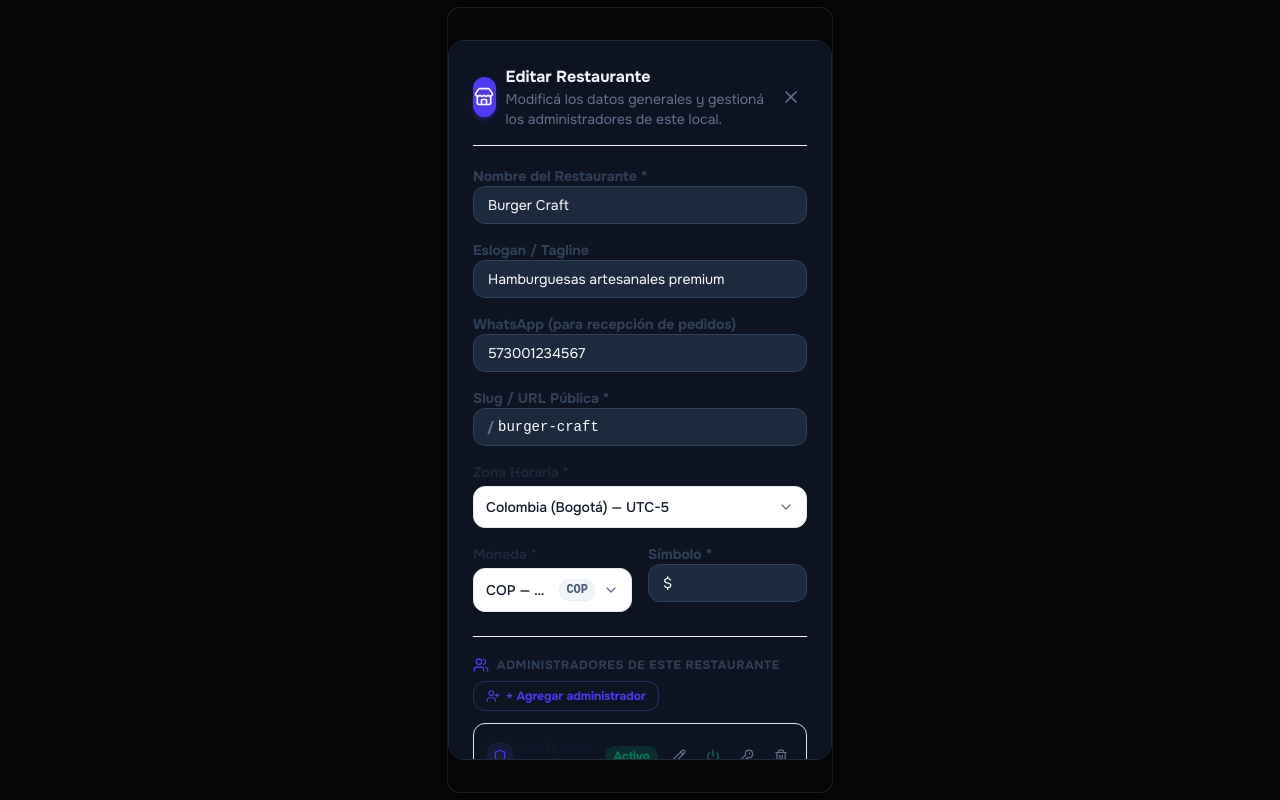
Scenario: EditRestaurantModal (TDD) › opens EditUserModal when clicking edit on an administrator row
Check: the text "craft_manager" is shown, box [524,737,590,760]
Click the button named "Editar usuario craft_manager": (679, 756) [666,743,692,769]
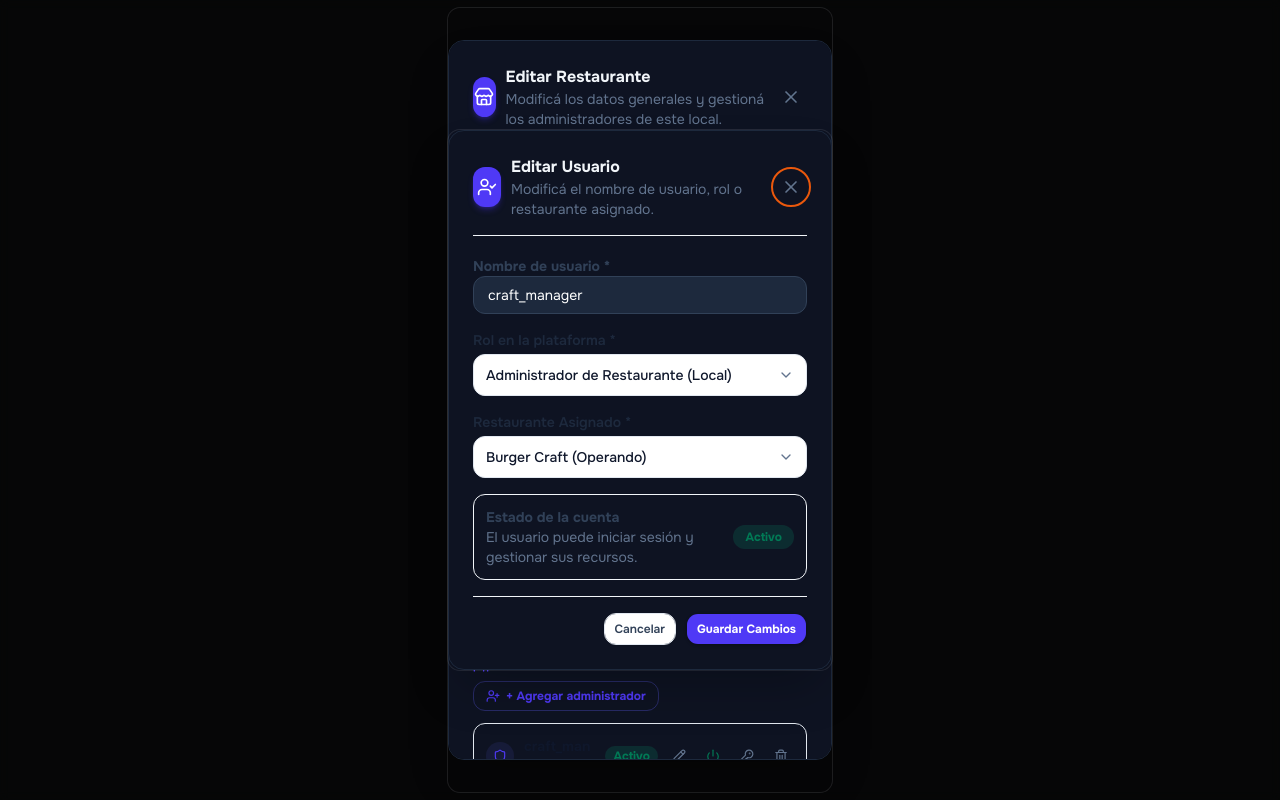
Check: the heading "Editar Usuario" is shown, box [511,156,620,177]
Check: the field showing "craft_manager" is shown, box [473,276,807,314]
